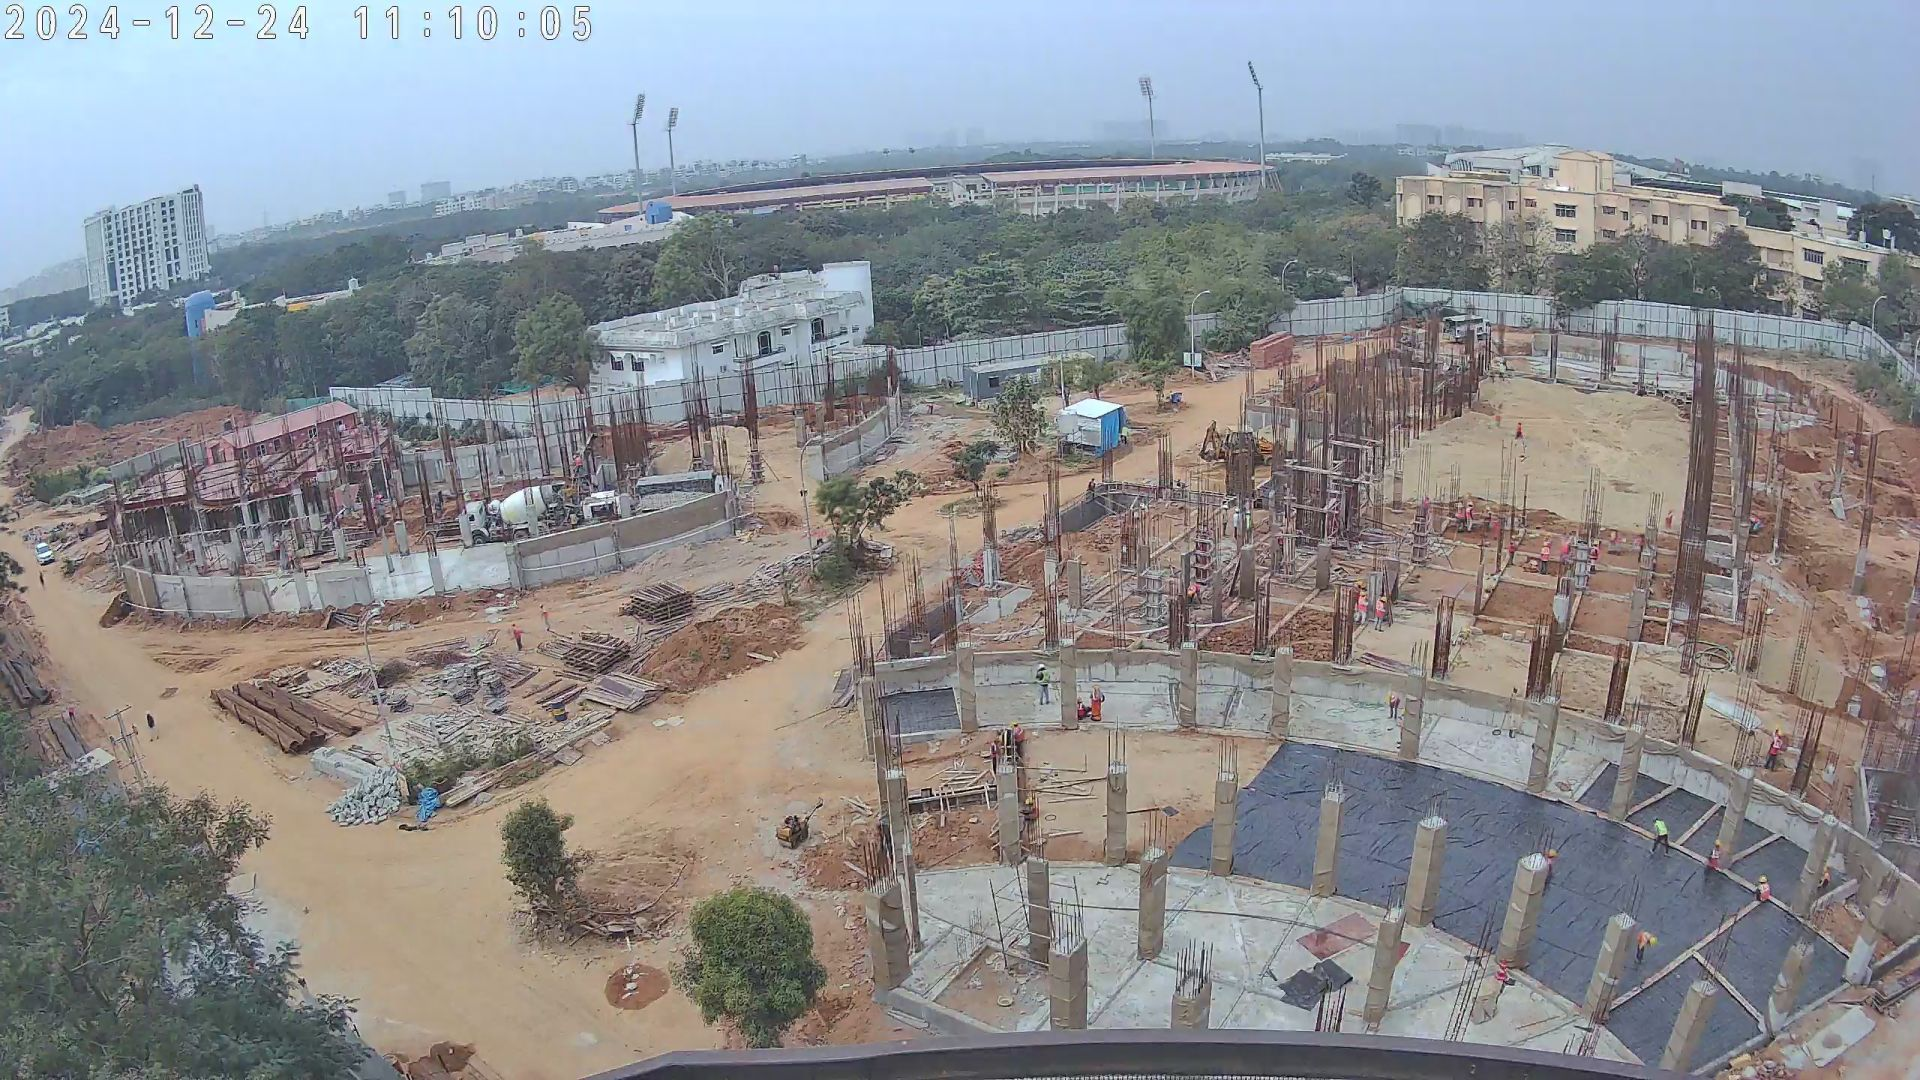car: (31, 538, 53, 563)
truck: (457, 484, 574, 544), (628, 475, 739, 513), (1441, 314, 1496, 348)
worker: (1634, 929, 1658, 966), (1034, 661, 1051, 710), (1651, 817, 1671, 858), (1764, 732, 1784, 772), (1753, 873, 1773, 911), (1538, 537, 1556, 577), (1503, 534, 1521, 571), (987, 732, 1001, 777), (1183, 578, 1200, 614), (1557, 538, 1574, 574), (1012, 718, 1026, 761), (1373, 595, 1388, 635), (1546, 848, 1559, 894), (1090, 684, 1104, 724), (1349, 575, 1363, 614), (143, 713, 161, 743), (1420, 494, 1433, 534), (1706, 839, 1722, 871), (1604, 518, 1617, 556), (1657, 508, 1676, 534), (1386, 688, 1400, 722), (540, 601, 553, 636), (511, 621, 524, 654), (1360, 581, 1370, 622), (1637, 528, 1647, 569), (1074, 698, 1091, 722), (1456, 498, 1466, 537), (1466, 501, 1478, 532), (1587, 544, 1597, 580), (1821, 866, 1834, 893), (36, 569, 50, 592), (570, 454, 584, 477), (1484, 506, 1494, 536), (1513, 421, 1526, 442), (271, 539, 281, 560), (1172, 477, 1188, 490), (1088, 475, 1097, 495), (66, 705, 78, 720)
